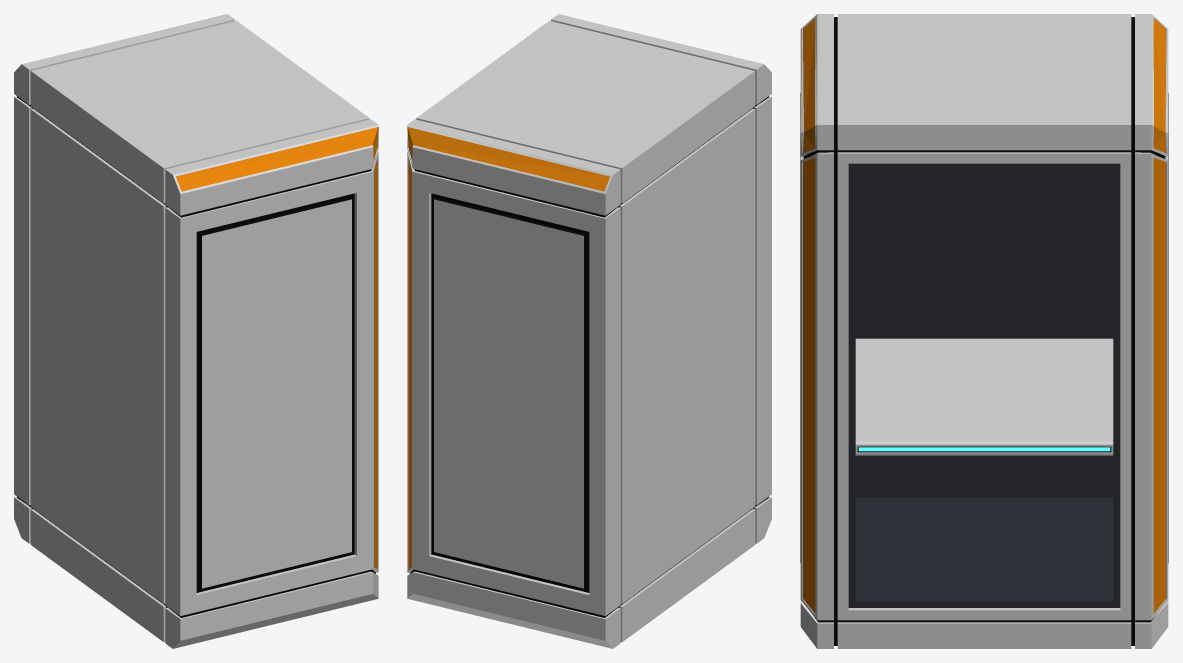
Rendered from SM_Wall_Cabinet.fbx.
3 renders of one model, left to right at view 1: azimuth 30°, elevation 25°; view 2: azimuth 150°, elevation 25°; view 3: azimuth 270°, elevation 25°, orthographic. The views are drawn at different scales.
Parts seen in each view (by area): view 1: SM_Wall_Cabinet; view 2: SM_Wall_Cabinet; view 3: SM_Wall_Cabinet.
Boxes of the visible parts, x1,y1,x2,y2 form: SM_Wall_Cabinet: [14, 14, 378, 648]; SM_Wall_Cabinet: [407, 14, 771, 648]; SM_Wall_Cabinet: [800, 14, 1168, 648].
Size of the model in its own units: 25 by 55 by 35.01.
